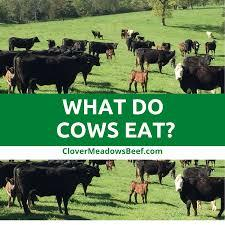cow: (11, 165, 94, 217), (12, 53, 93, 93), (174, 171, 225, 219), (175, 62, 225, 94), (134, 158, 177, 185), (135, 49, 177, 74), (126, 179, 150, 204), (89, 41, 120, 60), (6, 37, 40, 53), (129, 69, 149, 91), (205, 41, 216, 55)
